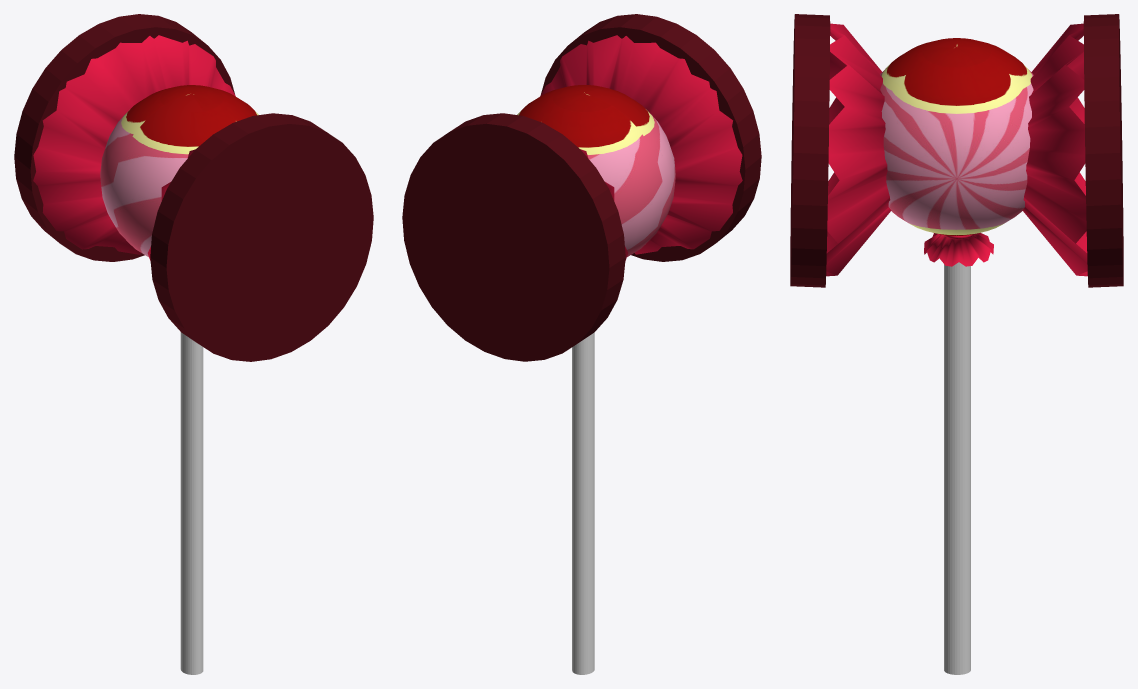
File: martillo Hapticos.fbx
The picture shows the model from 3 angles, left to right: view 1: azimuth 30°, elevation 25°; view 2: azimuth 150°, elevation 25°; view 3: azimuth 270°, elevation 25°; orthographic projection. The views are drawn at different scales.
Parts seen in each view (by area): view 1: Cylinder.003, Cylinder.002, Sphere.001, Cylinder.001; view 2: Cylinder.003, Cylinder.002, Sphere.001, Cylinder.001; view 3: Sphere.001, Cylinder.002, Cylinder.003, Cylinder.001, Cylinder.
Boxes of the visible parts, x1,y1,x2,y2 form: Cylinder.003: (14,14,373,361); Cylinder.002: (33,35,235,260); Sphere.001: (100,85,258,257); Cylinder.001: (180,332,203,674); Cylinder.003: (402,14,761,361); Cylinder.002: (540,35,742,260); Sphere.001: (517,85,675,256); Cylinder.001: (572,332,594,674); Sphere.001: (880,38,1033,235); Cylinder.002: (826,23,1087,276); Cylinder.003: (790,14,1123,287); Cylinder.001: (944,262,970,674); Cylinder: (924,233,993,266).
Size of the model in its own units: 364 by 1004 by 470.
5 materials, 1 textured.
